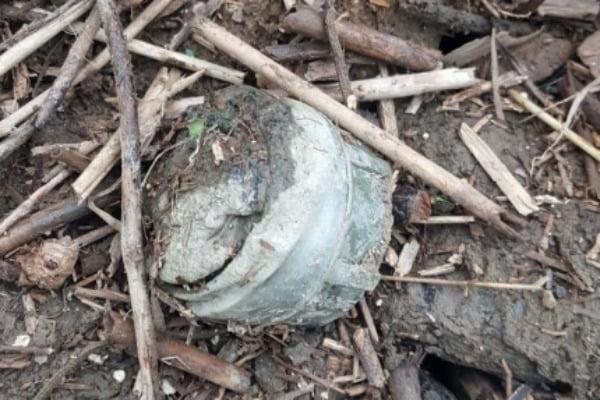pmn: (128, 83, 396, 342)
